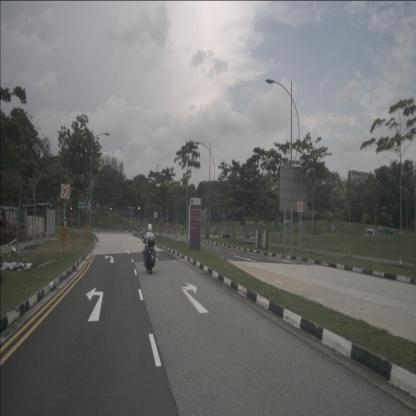human-pedestrian-adult: (212, 225, 214, 237), (215, 225, 217, 237)
vehicle-motorcycle: (142, 224, 156, 274)
vehicle-truck: (364, 228, 392, 243)
